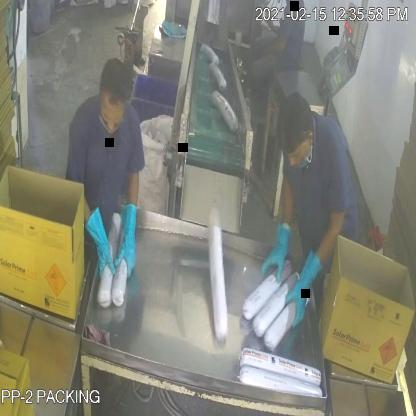glove: (285, 242, 326, 324), (83, 198, 114, 280), (262, 206, 293, 286), (114, 201, 142, 279)
